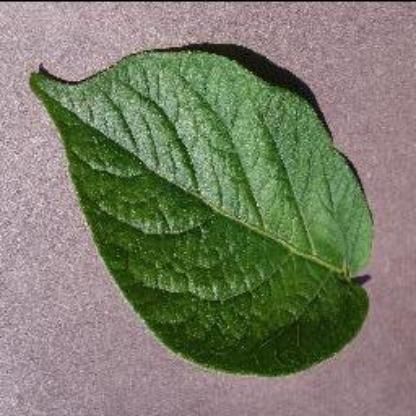Healthy-plant: (11, 26, 390, 386)
